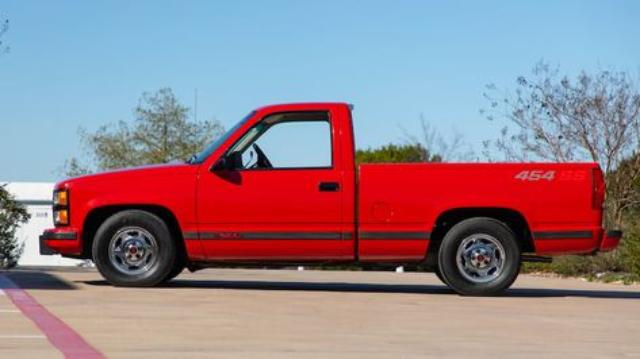pickup-truck: (39, 103, 622, 298)
